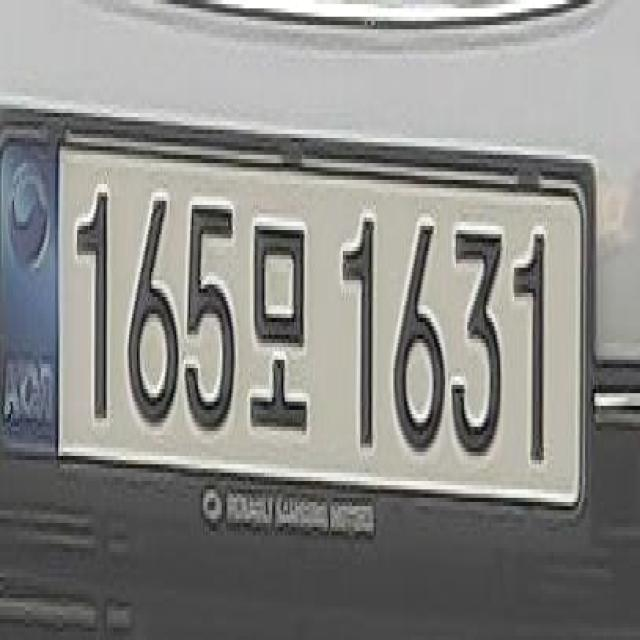illegal_plate: (11, 109, 604, 554)
